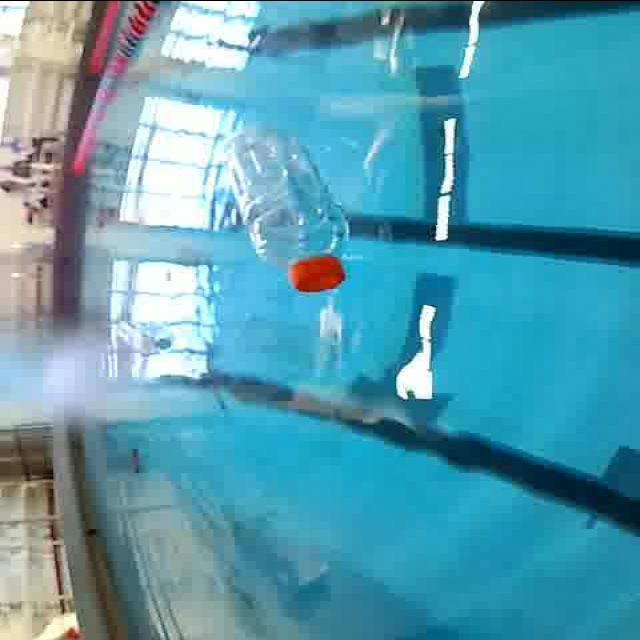Bottle: (216, 122, 360, 300)
